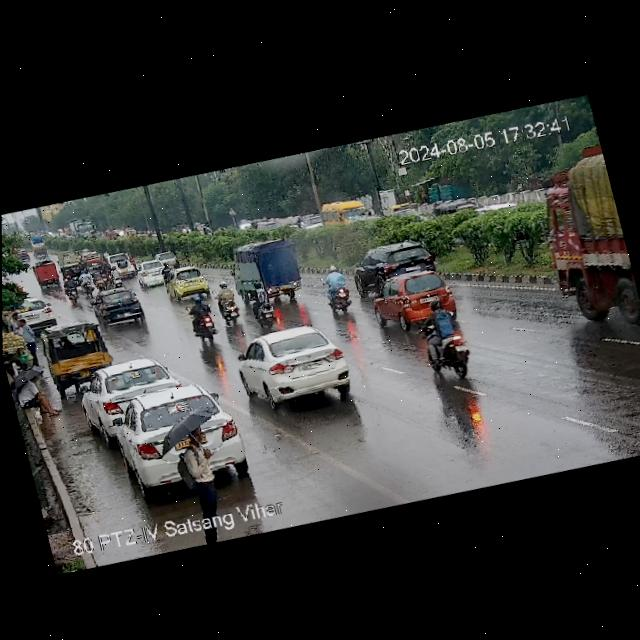car: (115, 374, 246, 494), (236, 317, 355, 414), (78, 347, 192, 426), (372, 264, 461, 335), (350, 232, 441, 297), (231, 231, 306, 309), (45, 315, 112, 376), (93, 282, 146, 330), (163, 261, 213, 303), (11, 296, 58, 333), (103, 248, 138, 283), (137, 258, 175, 289), (34, 251, 63, 290)
motorcycle: (410, 297, 472, 383), (314, 261, 355, 318), (241, 274, 279, 331), (183, 294, 221, 350), (212, 281, 244, 329)
person: (177, 429, 224, 541), (12, 367, 61, 425), (15, 315, 42, 365)
truck: (531, 143, 640, 331)
